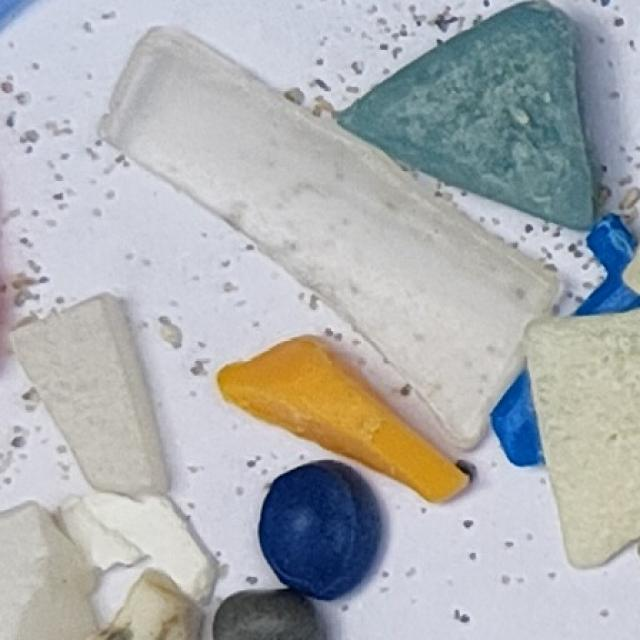beads: (243, 449, 395, 612)
fragments: (55, 0, 585, 455), (207, 307, 497, 514), (4, 290, 177, 525), (529, 311, 640, 568), (47, 480, 228, 605), (0, 504, 96, 639), (90, 571, 201, 639), (213, 591, 326, 640), (1, 0, 1, 0)
